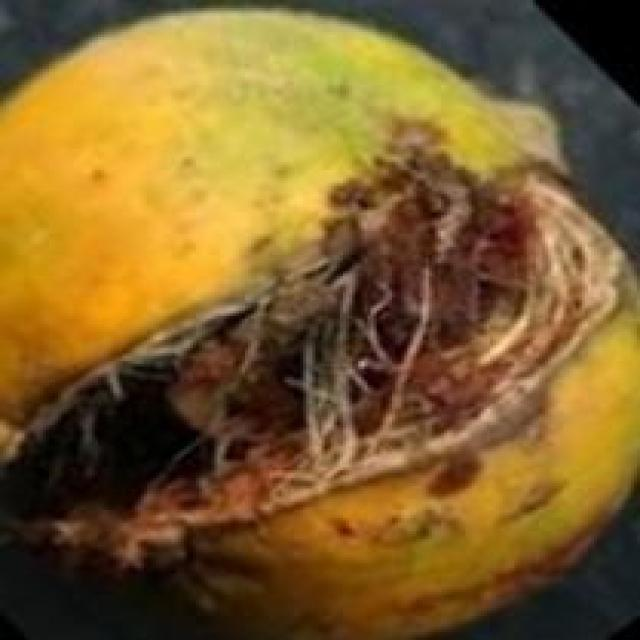damaged: (0, 8, 637, 637)
